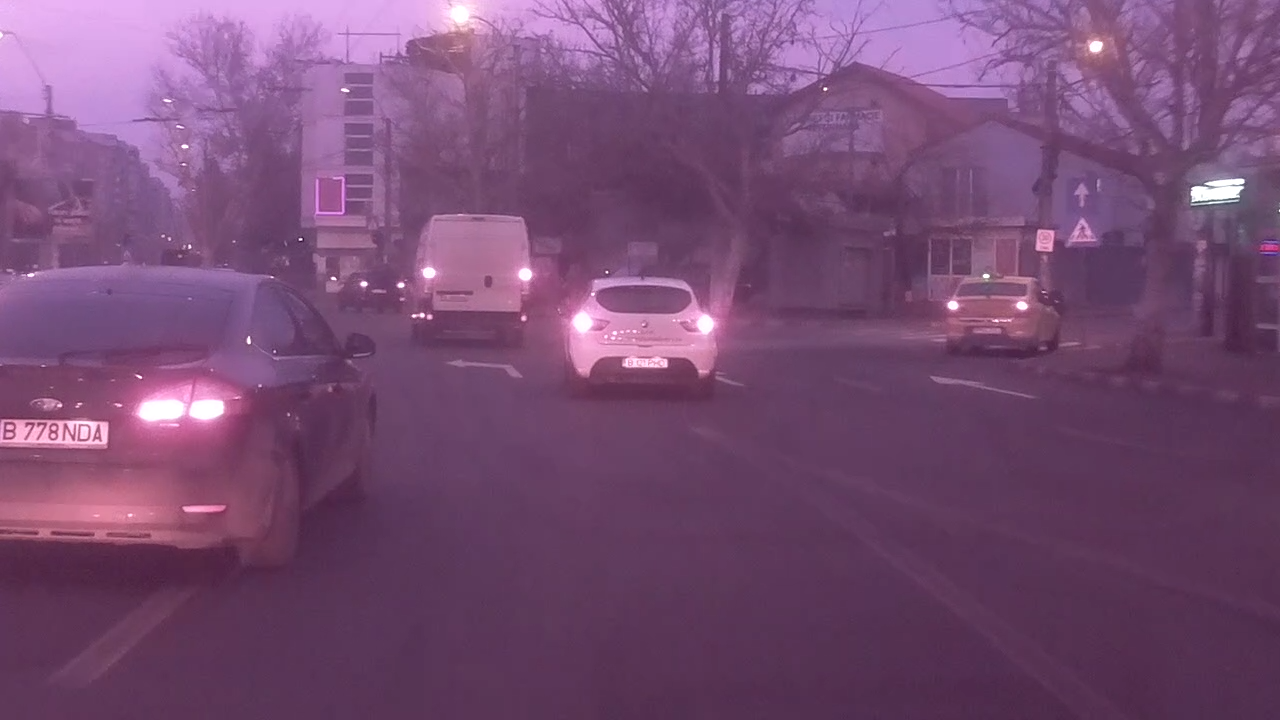license-plate: (0, 413, 113, 451), (618, 355, 671, 370)
